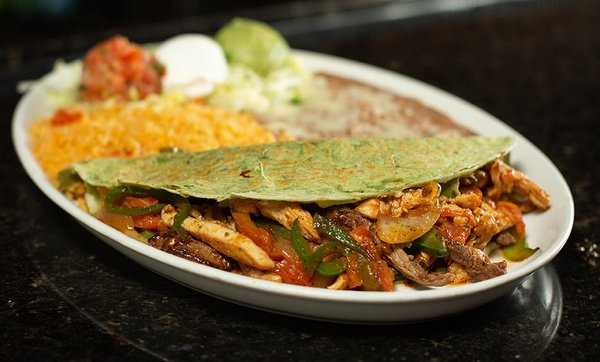soup: (54, 131, 519, 293)
